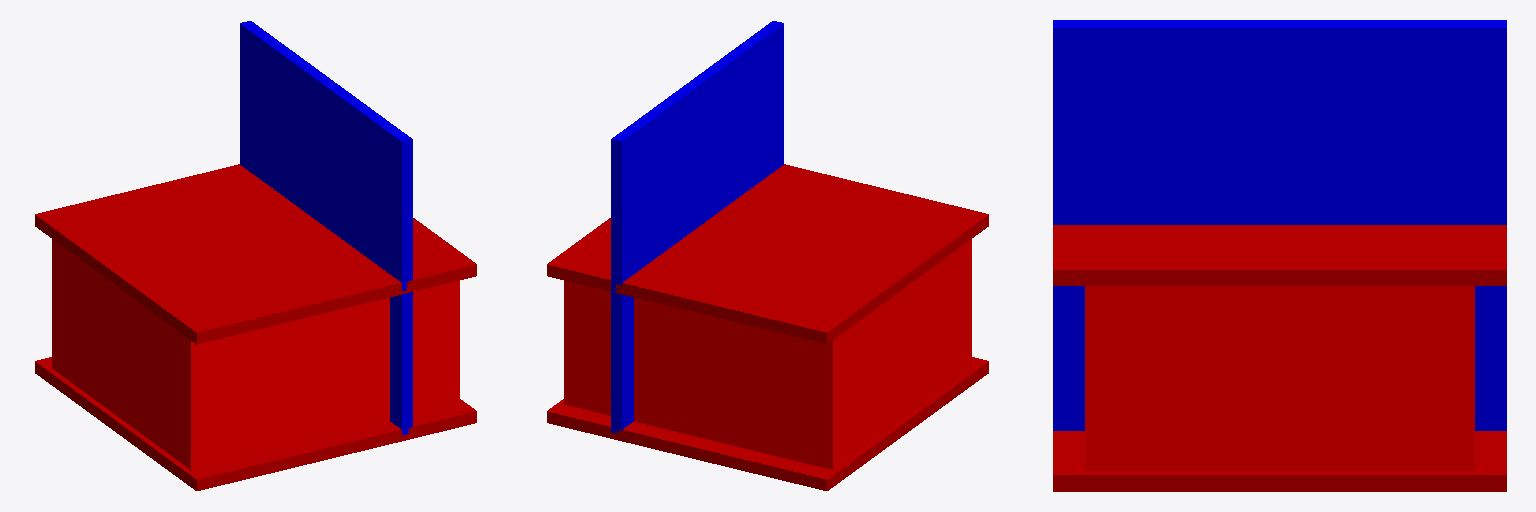
--- Facts derived from the render (not from the file) ---
3 views of the same robot in one strip: view 1: azimuth 30°, elevation 25°; view 2: azimuth 150°, elevation 25°; view 3: azimuth 270°, elevation 25° (orthographic).
Robot: m20id_35 — 22 links, 21 joints (12 revolute, 9 fixed); root link base_ground; default pose: all joints at 0.
Visible links, largest first — view 1: wall, ceil, virtual_wall, floor; view 2: wall, ceil, virtual_wall, floor; view 3: virtual_wall, wall, ceil, floor.
Link boxes in pixels (x1=…): wall: x1=52, y1=239, x2=459, y2=469; ceil: x1=35, y1=164, x2=476, y2=344; virtual_wall: x1=240, y1=21, x2=412, y2=434; floor: x1=35, y1=357, x2=476, y2=490; wall: x1=564, y1=239, x2=971, y2=469; ceil: x1=547, y1=164, x2=988, y2=344; virtual_wall: x1=611, y1=21, x2=783, y2=433; floor: x1=547, y1=357, x2=988, y2=490; virtual_wall: x1=1053, y1=20, x2=1506, y2=430; wall: x1=1085, y1=286, x2=1474, y2=470; ceil: x1=1053, y1=225, x2=1506, y2=285; floor: x1=1053, y1=431, x2=1506, y2=491.
Bounding box of the posed robot: 5 × 5 × 5.1 m (x, y, z).
21 mesh visuals loaded from 12 distinct referenced files (12 binary STL).

URDF robot description (m20id_35):
<?xml version="1.0" encoding="utf-8"?>
<!-- This URDF was automatically created by SolidWorks to URDF Exporter! Originally created by Stephen Brawner ([email redacted]) 
     Commit Version: 1.6.0-4-g7f85cfe  Build Version: 1.6.7995.38578
     For more information, please see http://wiki.ros.org/sw_urdf_exporter -->
<robot
  name="m20id_35">
  <link
    name="base_ground">
    <visual>
      <origin
        xyz="0 0 0"
        rpy="0 0 0" />
      <geometry>
        <box size="0.001 0.001 0.001" />
      </geometry>
    </visual>
    <collision>
      <origin
        xyz="0 0 0"
        rpy="0 0 0" />
      <geometry>
        <box size="0.001 0.001 0.001" />
      </geometry>
    </collision>
  </link>

  <joint 
    name = "arm1_base"
    type="fixed">
    <origin
      xyz="-1 0.75 0.3"
      rpy="0 0 0" />
    <parent
      link="base_ground" />
    <child
      link="base_link_1" />
  </joint>

  <joint 
    name = "arm2_base"
    type="fixed">
    <origin
      xyz="1 -0.75 0.3"
      rpy="0 0 3.1416" />
    <parent
      link="base_ground" />
    <child
      link="base_link_2" />
  </joint>
  
  <link
    name="base_link_1">
    <inertial>
      <origin
        xyz="-0.023633 0.0038198 0.098793"
        rpy="0 0 0" />
      <mass
        value="5.1351" />
      <inertia
        ixx="0.06095"
        ixy="0.00084571"
        ixz="0.0044562"
        iyy="0.081423"
        iyz="0.00050805"
        izz="0.11291" />
    </inertial>
    <visual>
      <origin
        xyz="0 0 0"
        rpy="0 0 0" />
      <geometry>
        <mesh
          filename="package://m20id_35/meshes/base_link.STL" />
      </geometry>
      <material
        name="">
        <color
          rgba="1 1 1 1" />
      </material>
    </visual>
    <collision>
      <origin
        xyz="0 0 0"
        rpy="0 0 0" />
      <geometry>
        <mesh
          filename="package://m20id_35/meshes/base_link.STL" />
      </geometry>
    </collision>
  </link>
  <link
    name="shoulder_link_1">
    <inertial>
      <origin
        xyz="0.011327 0.02343 0.17427"
        rpy="0 0 0" />
      <mass
        value="18.964" />
      <inertia
        ixx="0.33663"
        ixy="0.027541"
        ixz="-0.014122"
        iyy="0.34346"
        iyz="-0.040558"
        izz="0.30546" />
    </inertial>
    <visual>
      <origin
        xyz="0 0 0"
        rpy="0 0 0" />
      <geometry>
        <mesh
          filename="package://m20id_35/meshes/shoulder_link.STL" />
      </geometry>
      <material
        name="">
        <color
          rgba="1 1 1 1" />
      </material>
    </visual>
    <collision>
      <origin
        xyz="0 0 0"
        rpy="0 0 0" />
      <geometry>
        <mesh
          filename="package://m20id_35/meshes/shoulder_link.STL" />
      </geometry>
    </collision>
  </link>
  <joint
    name="joint11"
    type="revolute">
    <origin
      xyz="0 0 0.157"
      rpy="0 0 0" />
    <parent
      link="base_link_1" />
    <child
      link="shoulder_link_1" />
    <axis
      xyz="0 0 1" />
    <limit
      lower="-3.2289"
      upper="3.2289"
      effort="0"
      velocity="3.1416" />
  </joint>
  <link
    name="arm_link_1">
    <inertial>
      <origin
        xyz="-0.047138 -0.35456 -0.10163"
        rpy="0 0 0" />
      <mass
        value="20.745" />
      <inertia
        ixx="1.9258"
        ixy="-0.048401"
        ixz="-0.023229"
        iyy="0.12979"
        iyz="0.033424"
        izz="1.9688" />
    </inertial>
    <visual>
      <origin
        xyz="0 0 0"
        rpy="0 0 0" />
      <geometry>
        <mesh
          filename="package://m20id_35/meshes/arm_link.STL" />
      </geometry>
      <material
        name="">
        <color
          rgba="1 1 1 1" />
      </material>
    </visual>
    <collision>
      <origin
        xyz="0 0 0"
        rpy="0 0 0" />
      <geometry>
        <mesh
          filename="package://m20id_35/meshes/arm_link.STL" />
      </geometry>
    </collision>
  </link>
  <joint
    name="joint12"
    type="revolute">
    <origin
      xyz="0.075 -0.08002 0.268"
      rpy="-1.5708 0 0" />
    <parent
      link="shoulder_link_1" />
    <child
      link="arm_link_1" />
    <axis
      xyz="0 0 1" />
    <limit
      lower="-2.7925"
      upper="1.7453"
      effort="0"
      velocity="3.1416" />
  </joint>
  <link
    name="elbow_link_1">
    <inertial>
      <origin
        xyz="0.141588666664855 0.112618321023093 -0.0988430813988773"
        rpy="0 0 0" />
      <mass
        value="13.8445960856355" />
      <inertia
        ixx="0.235600580832625"
        ixy="-0.096601957743727"
        ixz="0.0140558208333844"
        iyy="0.228747824200201"
        iyz="0.00120225373081753"
        izz="0.281447186701807" />
    </inertial>
    <visual>
      <origin
        xyz="0 0 0"
        rpy="0 0 0" />
      <geometry>
        <mesh
          filename="package://m20id_35/meshes/elbow_link.STL" />
      </geometry>
      <material
        name="">
        <color
          rgba="1 1 1 1" />
      </material>
    </visual>
    <collision>
      <origin
        xyz="0 0 0"
        rpy="0 0 0" />
      <geometry>
        <mesh
          filename="package://m20id_35/meshes/elbow_link.STL" />
      </geometry>
    </collision>
  </link>
  <joint
    name="joint13"
    type="revolute">
    <origin
      xyz="0 -0.84 0.01752"
      rpy="-3.1416 0 0" />
    <parent
      link="arm_link_1" />
    <child
      link="elbow_link_1" />
    <axis
      xyz="0 0 1" />
    <limit
      lower="-3.3161"
      upper="4.6775"
      effort="0"
      velocity="3.4907" />
  </joint>
  <link
    name="forearm_link_1">
    <inertial>
      <origin
        xyz="-0.063255 -0.0002881 0.27256"
        rpy="0 0 0" />
      <mass
        value="8.6186" />
      <inertia
        ixx="0.099253"
        ixy="-2.3706E-06"
        ixz="0.0099493"
        iyy="0.1009"
        iyz="-2.2342E-05"
        izz="0.028818" />
    </inertial>
    <visual>
      <origin
        xyz="0 0 0"
        rpy="0 0 0" />
      <geometry>
        <mesh
          filename="package://m20id_35/meshes/forearm_link.STL" />
      </geometry>
      <material
        name="">
        <color
          rgba="1 1 1 1" />
      </material>
    </visual>
    <collision>
      <origin
        xyz="0 0 0"
        rpy="0 0 0" />
      <geometry>
        <mesh
          filename="package://m20id_35/meshes/forearm_link.STL" />
      </geometry>
    </collision>
  </link>
  <joint
    name="joint14"
    type="revolute">
    <origin
      xyz="0.29574 0.215 -0.0625"
      rpy="0 1.5708 0" />
    <parent
      link="elbow_link_1" />
    <child
      link="forearm_link_1" />
    <axis
      xyz="0 0 1" />
    <limit
      lower="-3.4907"
      upper="3.4907"
      effort="0"
      velocity="6.1087" />
  </joint>
  <link
    name="wrist_link_1">
    <inertial>
      <origin
        xyz="0.030158 1.739E-06 -0.032589"
        rpy="0 0 0" />
      <mass
        value="0.50503" />
      <inertia
        ixx="0.0013329"
        ixy="1.9227E-08"
        ixz="0.00033609"
        iyy="0.0012932"
        iyz="-9.9325E-09"
        izz="0.0015121" />
    </inertial>
    <visual>
      <origin
        xyz="0 0 0"
        rpy="0 0 0" />
      <geometry>
        <mesh
          filename="package://m20id_35/meshes/wrist_link.STL" />
      </geometry>
      <material
        name="">
        <color
          rgba="0.2 0.2 0.2 1" />
      </material>
    </visual>
    <collision>
      <origin
        xyz="0 0 0"
        rpy="0 0 0" />
      <geometry>
        <mesh
          filename="package://m20id_35/meshes/wrist_link.STL" />
      </geometry>
    </collision>
  </link>
  <joint
    name="joint15"
    type="revolute">
    <origin
      xyz="-0.0525 0 0.59426"
      rpy="0 -1.5708 0" />
    <parent
      link="forearm_link_1" />
    <child
      link="wrist_link_1" />
    <axis
      xyz="0 0 1" />
    <limit
      lower="-3.1416"
      upper="3.1416"
      effort="0"
      velocity="6.1087" />
  </joint>
  <link
    name="hand_link_1">
    <inertial>
      <origin
        xyz="5.1083E-18 -4.4409E-16 0.02528"
        rpy="0 0 0" />
      <mass
        value="0.14987" />
      <inertia
        ixx="0.00013695"
        ixy="-2.3225E-16"
        ixz="-1.0056E-20"
        iyy="0.00013691"
        iyz="-7.0219E-20"
        izz="0.00020789" />
    </inertial>
    <visual>
      <origin
        xyz="0 0 0"
        rpy="0 0 0" />
      <geometry>
        <mesh
          filename="package://m20id_35/meshes/hand_link.STL" />
      </geometry>
      <material
        name="">
        <color
          rgba="1 1 1 1" />
      </material>
    </visual>
    <collision>
      <origin
        xyz="0 0 0"
        rpy="0 0 0" />
      <geometry>
        <mesh
          filename="package://m20id_35/meshes/hand_link.STL" />
      </geometry>
    </collision>
  </link>
  <joint
    name="joint16"
    type="revolute">
    <origin
      xyz="0.0308 0 -0.0525"
      rpy="0 1.5708 0" />
    <parent
      link="wrist_link_1" />
    <child
      link="hand_link_1" />
    <axis
      xyz="0 0 1" />
    <limit
      lower="-7.854"
      upper="7.854"
      effort="0"
      velocity="6.9813" />
  </joint>




  <joint
    name="joint17"
    type="fixed">
    <origin
      xyz="0 0 0.08"
      rpy="0 0 0" />
    <parent
      link="hand_link_1" />
    <child
      link="detector" />
  </joint>

  <link
    name="detector">
    <inertial>
      <origin
        xyz="-1.7388E-06 -0.030158 0.032589"
        rpy="0 0 0" />
      <mass
        value="0.50503" />
      <inertia
        ixx="0.0012932"
        ixy="1.9229E-08"
        ixz="-9.9312E-09"
        iyy="0.0013329"
        iyz="0.00033609"
        izz="0.0015121" />
    </inertial>
    <visual>
      <origin
        xyz="0 0 0"
        rpy="0 0 0" />
      <geometry>
        <mesh
          filename="package://m20id_35/meshes/detector.STL" />
      </geometry>
      <material
        name="">
        <color
          rgba="0.3 0.3 0.3 1" />
      </material>
    </visual>
    <collision>
      <origin
        xyz="0 0 0"
        rpy="0 0 0" />
      <geometry>
        <mesh
          filename="package://m20id_35/meshes/detector.STL" />
      </geometry>
    </collision>
  </link>



  <link
    name="base_link_2">
    <inertial>
      <origin
        xyz="-0.023633 0.0038198 0.098793"
        rpy="0 0 0" />
      <mass
        value="5.1351" />
      <inertia
        ixx="0.06095"
        ixy="0.00084571"
        ixz="0.0044562"
        iyy="0.081423"
        iyz="0.00050805"
        izz="0.11291" />
    </inertial>
    <visual>
      <origin
        xyz="0 0 0"
        rpy="0 0 0" />
      <geometry>
        <mesh
          filename="package://m20id_35/meshes/base_link.STL" />
      </geometry>
      <material
        name="">
        <color
          rgba="1 1 1 1" />
      </material>
    </visual>
    <collision>
      <origin
        xyz="0 0 0"
        rpy="0 0 0" />
      <geometry>
        <mesh
          filename="package://m20id_35/meshes/base_link.STL" />
      </geometry>
    </collision>
  </link>
  <link
    name="shoulder_link_2">
    <inertial>
      <origin
        xyz="0.011327 0.02343 0.17427"
        rpy="0 0 0" />
      <mass
        value="18.964" />
      <inertia
        ixx="0.33663"
        ixy="0.027541"
        ixz="-0.014122"
        iyy="0.34346"
        iyz="-0.040558"
        izz="0.30546" />
    </inertial>
    <visual>
      <origin
        xyz="0 0 0"
        rpy="0 0 0" />
      <geometry>
        <mesh
          filename="package://m20id_35/meshes/shoulder_link.STL" />
      </geometry>
      <material
        name="">
        <color
          rgba="1 1 1 1" />
      </material>
    </visual>
    <collision>
      <origin
        xyz="0 0 0"
        rpy="0 0 0" />
      <geometry>
        <mesh
          filename="package://m20id_35/meshes/shoulder_link.STL" />
      </geometry>
    </collision>
  </link>
  <joint
    name="joint21"
    type="revolute">
    <origin
      xyz="0 0 0.157"
      rpy="0 0 0" />
    <parent
      link="base_link_2" />
    <child
      link="shoulder_link_2" />
    <axis
      xyz="0 0 1" />
    <limit
      lower="-3.2289"
      upper="3.2289"
      effort="0"
      velocity="3.1416" />
  </joint>
  <link
    name="arm_link_2">
    <inertial>
      <origin
        xyz="-0.047138 -0.35456 -0.10163"
        rpy="0 0 0" />
      <mass
        value="20.745" />
      <inertia
        ixx="1.9258"
        ixy="-0.048401"
        ixz="-0.023229"
        iyy="0.12979"
        iyz="0.033424"
        izz="1.9688" />
    </inertial>
    <visual>
      <origin
        xyz="0 0 0"
        rpy="0 0 0" />
      <geometry>
        <mesh
          filename="package://m20id_35/meshes/arm_link.STL" />
      </geometry>
      <material
        name="">
        <color
          rgba="1 1 1 1" />
      </material>
    </visual>
    <collision>
      <origin
        xyz="0 0 0"
        rpy="0 0 0" />
      <geometry>
        <mesh
          filename="package://m20id_35/meshes/arm_link.STL" />
      </geometry>
    </collision>
  </link>
  <joint
    name="joint22"
    type="revolute">
    <origin
      xyz="0.075 -0.08002 0.268"
      rpy="-1.5708 0 0" />
    <parent
      link="shoulder_link_2" />
    <child
      link="arm_link_2" />
    <axis
      xyz="0 0 1" />
    <limit
      lower="-2.7925"
      upper="1.7453"
      effort="0"
      velocity="3.1416" />
  </joint>
  <link
    name="elbow_link_2">
    <inertial>
      <origin
        xyz="0.141588666664855 0.112618321023093 -0.0988430813988773"
        rpy="0 0 0" />
      <mass
        value="13.8445960856355" />
      <inertia
        ixx="0.235600580832625"
        ixy="-0.096601957743727"
        ixz="0.0140558208333844"
        iyy="0.228747824200201"
        iyz="0.00120225373081753"
        izz="0.281447186701807" />
    </inertial>
    <visual>
      <origin
        xyz="0 0 0"
        rpy="0 0 0" />
      <geometry>
        <mesh
          filename="package://m20id_35/meshes/elbow_link.STL" />
      </geometry>
      <material
        name="">
        <color
          rgba="1 1 1 1" />
      </material>
    </visual>
    <collision>
      <origin
        xyz="0 0 0"
        rpy="0 0 0" />
      <geometry>
        <mesh
          filename="package://m20id_35/meshes/elbow_link.STL" />
      </geometry>
    </collision>
  </link>
  <joint
    name="joint23"
    type="revolute">
    <origin
      xyz="0 -0.84 0.01752"
      rpy="-3.1416 0 0" />
    <parent
      link="arm_link_2" />
    <child
      link="elbow_link_2" />
    <axis
      xyz="0 0 1" />
    <limit
      lower="-3.3161"
      upper="4.6775"
      effort="0"
      velocity="3.4907" />
  </joint>
  <link
    name="forearm_link_2">
    <inertial>
      <origin
        xyz="-0.063255 -0.0002881 0.27256"
        rpy="0 0 0" />
      <mass
        value="8.6186" />
      <inertia
        ixx="0.099253"
        ixy="-2.3706E-06"
        ixz="0.0099493"
        iyy="0.1009"
        iyz="-2.2342E-05"
        izz="0.028818" />
    </inertial>
    <visual>
      <origin
        xyz="0 0 0"
        rpy="0 0 0" />
      <geometry>
        <mesh
          filename="package://m20id_35/meshes/forearm_link.STL" />
      </geometry>
      <material
        name="">
        <color
          rgba="1 1 1 1" />
      </material>
    </visual>
    <collision>
      <origin
        xyz="0 0 0"
        rpy="0 0 0" />
      <geometry>
        <mesh
          filename="package://m20id_35/meshes/forearm_link.STL" />
      </geometry>
    </collision>
  </link>
  <joint
    name="joint24"
    type="revolute">
    <origin
      xyz="0.29574 0.215 -0.0625"
      rpy="0 1.5708 0" />
    <parent
      link="elbow_link_2" />
    <child
      link="forearm_link_2" />
    <axis
      xyz="0 0 1" />
    <limit
      lower="-3.4907"
      upper="3.4907"
      effort="0"
      velocity="6.1087" />
  </joint>
  <link
    name="wrist_link_2">
    <inertial>
      <origin
        xyz="0.030158 1.739E-06 -0.032589"
        rpy="0 0 0" />
      <mass
        value="0.50503" />
      <inertia
        ixx="0.0013329"
        ixy="1.9227E-08"
        ixz="0.00033609"
        iyy="0.0012932"
        iyz="-9.9325E-09"
        izz="0.0015121" />
    </inertial>
    <visual>
      <origin
        xyz="0 0 0"
        rpy="0 0 0" />
      <geometry>
        <mesh
          filename="package://m20id_35/meshes/wrist_link.STL" />
      </geometry>
      <material
        name="">
        <color
          rgba="0.2 0.2 0.2 1" />
      </material>
    </visual>
    <collision>
      <origin
        xyz="0 0 0"
        rpy="0 0 0" />
      <geometry>
        <mesh
          filename="package://m20id_35/meshes/wrist_link.STL" />
      </geometry>
    </collision>
  </link>
  <joint
    name="joint25"
    type="revolute">
    <origin
      xyz="-0.0525 0 0.59426"
      rpy="0 -1.5708 0" />
    <parent
      link="forearm_link_2" />
    <child
      link="wrist_link_2" />
    <axis
      xyz="0 0 1" />
    <limit
      lower="-3.1416"
      upper="3.1416"
      effort="0"
      velocity="6.1087" />
  </joint>
  <link
    name="hand_link_2">
    <inertial>
      <origin
        xyz="5.1083E-18 -4.4409E-16 0.02528"
        rpy="0 0 0" />
      <mass
        value="0.14987" />
      <inertia
        ixx="0.00013695"
        ixy="-2.3225E-16"
        ixz="-1.0056E-20"
        iyy="0.00013691"
        iyz="-7.0219E-20"
        izz="0.00020789" />
    </inertial>
    <visual>
      <origin
        xyz="0 0 0"
        rpy="0 0 0" />
      <geometry>
        <mesh
          filename="package://m20id_35/meshes/hand_link.STL" />
      </geometry>
      <material
        name="">
        <color
          rgba="1 1 1 1" />
      </material>
    </visual>
    <collision>
      <origin
        xyz="0 0 0"
        rpy="0 0 0" />
      <geometry>
        <mesh
          filename="package://m20id_35/meshes/hand_link.STL" />
      </geometry>
    </collision>
  </link>
  <joint
    name="joint26"
    type="revolute">
    <origin
      xyz="0.0308 0 -0.0525"
      rpy="0 1.5708 0" />
    <parent
      link="wrist_link_2" />
    <child
      link="hand_link_2" />
    <axis
      xyz="0 0 1" />
    <limit
      lower="-7.854"
      upper="7.854"
      effort="0"
      velocity="6.9813" />
  </joint>



  <joint
    name="joint27"
    type="fixed">
    <origin
      xyz="0.0 0 0.1"
      rpy="-1.5708 0 -1.5708" />
    <parent
      link="hand_link_2" />
    <child
      link="x_ray_generator" />
  </joint>

  <link
    name="x_ray_generator">
    <inertial>
      <origin
        xyz="-1.7388E-06 -0.030158 0.032589"
        rpy="0 0 0" />
      <mass
        value="0.50503" />
      <inertia
        ixx="0.0012932"
        ixy="1.9229E-08"
        ixz="-9.9312E-09"
        iyy="0.0013329"
        iyz="0.00033609"
        izz="0.0015121" />
    </inertial>
    <visual>
      <origin
        xyz="0 0 0"
        rpy="0 0 0" />
      <geometry>
        <mesh
          filename="package://m20id_35/meshes/MXR225MF.STL" scale = "0.001 0.001 0.001"/>
      </geometry>
      <material
        name="">
        <color
          rgba="0.7 0.7 0.7 1" />
      </material>
    </visual>
    <collision>
      <origin
        xyz="0 0 0"
        rpy="0 0 0" />
      <geometry>
        <mesh
          filename="package://m20id_35/meshes/MXR225MF.STL"  scale = "0.001 0.001 0.001"/>
      </geometry>
    </collision>
  </link>

  <joint
    name="joint28"
    type="fixed">
    <origin
      xyz="0.20 -0.52 0"
      rpy="1.5708 0 0" />
    <parent
      link="x_ray_generator" />
    <child
      link="x_ray_beam" />
  </joint>

  <link
    name="x_ray_beam">
    <inertial>
      <origin
        xyz="0 0 0"
        rpy="0 0 0" />
      <mass
        value="0.50503" />
      <inertia
        ixx="0.0012932"
        ixy="1.9229E-08"
        ixz="-9.9312E-09"
        iyy="0.0013329"
        iyz="0.00033609"
        izz="0.0015121" />
    </inertial>
    <visual>
      <origin
        xyz="0 0 0"
        rpy="-3.1416 0 0" />
      <geometry>
        <mesh
          filename="package://m20id_35/meshes/cone.STL" scale = "1 1 1"/>
      </geometry>
      <material
        name="">
        <color
          rgba="0.9 0.9 0.9 0.2" />
      </material>
    </visual>
    <collision>
      <origin
        xyz="0 0 0"
        rpy="-3.1416 0 0" />
      <geometry>
        <mesh
          filename="package://m20id_35/meshes/cone.STL"  scale = "1 1 1"/>
      </geometry>
    </collision>
  </link>


  <joint
    name="joint00"
    type="fixed">
    <origin
      xyz="0 0 0"
      rpy="0 0 1.5708" />
    <parent
      link="base_ground" />
    <child
      link="wall" />
  </joint>

  <link
    name="wall">
    <inertial>
      <origin
        xyz="0 0 0 "
        rpy="0 0 1.5708" />
      <mass
        value="1e7" />
      <inertia
        ixx="1e6"
        ixy="1e6"
        ixz="1e6"
        iyy="1e6"
        iyz="1e6"
        izz="1e6" />
    </inertial>
    <visual>
      <origin
        xyz="0 0 0"
        rpy="0 0 0" />
      <geometry>
        <mesh
          filename="package://m20id_35/meshes/wall.STL" scale = "1 1 1"/>
      </geometry>
      <material
        name="">
        <color
          rgba="1.0 0.0 0.0 1.0" />
      </material>
    </visual>
    <collision>
      <origin
        xyz="0 0 0"
        rpy="0 0 0" />
      <geometry>
        <mesh
          filename="package://m20id_35/meshes/wall.STL"  scale = "1 1 1"/>
      </geometry>
    </collision>
  </link>



  <joint
    name="joint01"
    type="fixed">
    <origin
      xyz="0 0 0"
      rpy="0 0 0" />
    <parent
      link="base_ground" />
    <child
      link="floor" />
  </joint>

  <link
    name="floor">
    <inertial>
      <origin
        xyz="0 0 0 "
        rpy="0 0 1.5708" />
      <mass
        value="1e7" />
      <inertia
        ixx="1e6"
        ixy="1e6"
        ixz="1e6"
        iyy="1e6"
        iyz="1e6"
        izz="1e6" />
    </inertial>
    <visual>
      <origin
        xyz="0 0 0"
        rpy="0 0 0" />
      <geometry>
        <mesh
          filename="package://m20id_35/meshes/floor.STL" scale = "1 1 1"/>
      </geometry>
      <material
        name="">
        <color
          rgba="0.8 0.0 0.0 1.0" />
      </material>
    </visual>
    <collision>
      <origin
        xyz="0 0 0.0"
        rpy="0 0 0" />
      <geometry>
        <mesh
          filename="package://m20id_35/meshes/floor.STL"  scale = "1 1 1"/>
      </geometry>
    </collision>
  </link>


  <joint
    name="joint02"
    type="fixed">
    <origin
      xyz="0 0 0"
      rpy="0 0 0" />
    <parent
      link="base_ground" />
    <child
      link="ceil" />
  </joint>

  <link
    name="ceil">
    <inertial>
      <origin
        xyz="0 0 0 "
        rpy="0 0 1.5708" />
      <mass
        value="1e7" />
      <inertia
        ixx="1e6"
        ixy="1e6"
        ixz="1e6"
        iyy="1e6"
        iyz="1e6"
        izz="1e6" />
    </inertial>
    <visual>
      <origin
        xyz="0 0 2.5"
        rpy="0 0 0" />
      <geometry>
        <mesh
          filename="package://m20id_35/meshes/floor.STL" scale = "1 1 1"/>
      </geometry>
      <material
        name="">
        <color
          rgba="0.8 0.0 0.0 0.1" />
      </material>
    </visual>
    <collision>
      <origin
        xyz="0 0 2.5"
        rpy="0 0 0" />
      <geometry>
        <mesh
          filename="package://m20id_35/meshes/floor.STL"  scale = "1 1 1"/>
      </geometry>
    </collision>
  </link>

  <!-- <joint
    name="joint03"
    type="fixed">
    <origin
      xyz="0 0 0"
      rpy="0 0 0" />
    <parent
      link="base_ground" />
    <child
      link="object" />
  </joint>

  <link
    name="object">
    <inertial>
      <origin
        xyz="0 0 0 "
        rpy="0 0 0" />
      <mass
        value="1e7" />
      <inertia
        ixx="1e6"
        ixy="1e6"
        ixz="1e6"
        iyy="1e6"
        iyz="1e6"
        izz="1e6" />
    </inertial>
    <visual>
      <origin
        xyz="-6.5 -4 0.5"
        rpy="0 0 0" />
      <geometry>
        <mesh
          filename="package://m20id_35/meshes/wings_defected.STL" scale = "1 1 1"/>
      </geometry>
      <material
        name="">
        <color
          rgba="0.0 1.0 0.0 1.0" />
      </material>
    </visual>
    <collision>
      <origin
        xyz="-6.5 -4 0.5"
        rpy="0 0 0" />
      <geometry>
        <mesh
          filename="package://m20id_35/meshes/wings_defected.STL"  scale = "1 1 1"/>
      </geometry>
    </collision>
  </link> -->

  <joint
    name="joint04"
    type="fixed">
    <origin
      xyz="1.25 0 2.5"
      rpy="1.5708 0 1.5708" />
    <parent
      link="base_ground" />
    <child
      link="virtual_wall" />
  </joint>

  <link
    name="virtual_wall">
    <inertial>
      <origin
        xyz="0 0 0 "
        rpy="0 0 0" />
      <mass
        value="1e7" />
      <inertia
        ixx="1e6"
        ixy="1e6"
        ixz="1e6"
        iyy="1e6"
        iyz="1e6"
        izz="1e6" />
    </inertial>
    <visual>
      <origin
        xyz="0 0 0"
        rpy="0 0 0" />
      <geometry>
        <mesh
          filename="package://m20id_35/meshes/floor.STL" scale = "1 1 1"/>
      </geometry>
      <material
        name="">
        <color
          rgba="0.0 0.0 1.0 0.5" />
      </material>
    </visual>
    <collision>
      <origin
        xyz="0 0 0"
        rpy="0 0 0" />
      <geometry>
        <mesh
          filename="package://m20id_35/meshes/floor.STL"  scale = "1 1 1"/>
      </geometry>
    </collision>
  </link>

</robot>
